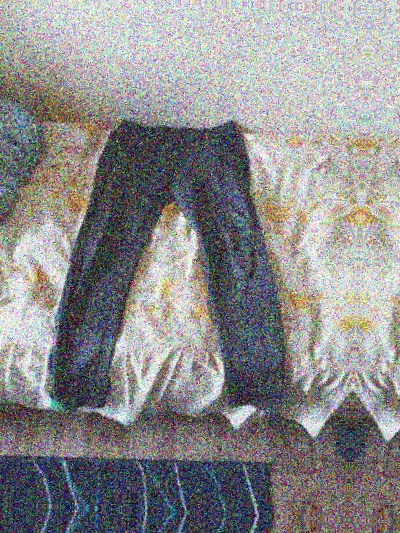Pants: (21, 78, 320, 436), (398, 95, 400, 453)
